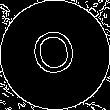O_S: (27, 25, 83, 85)
